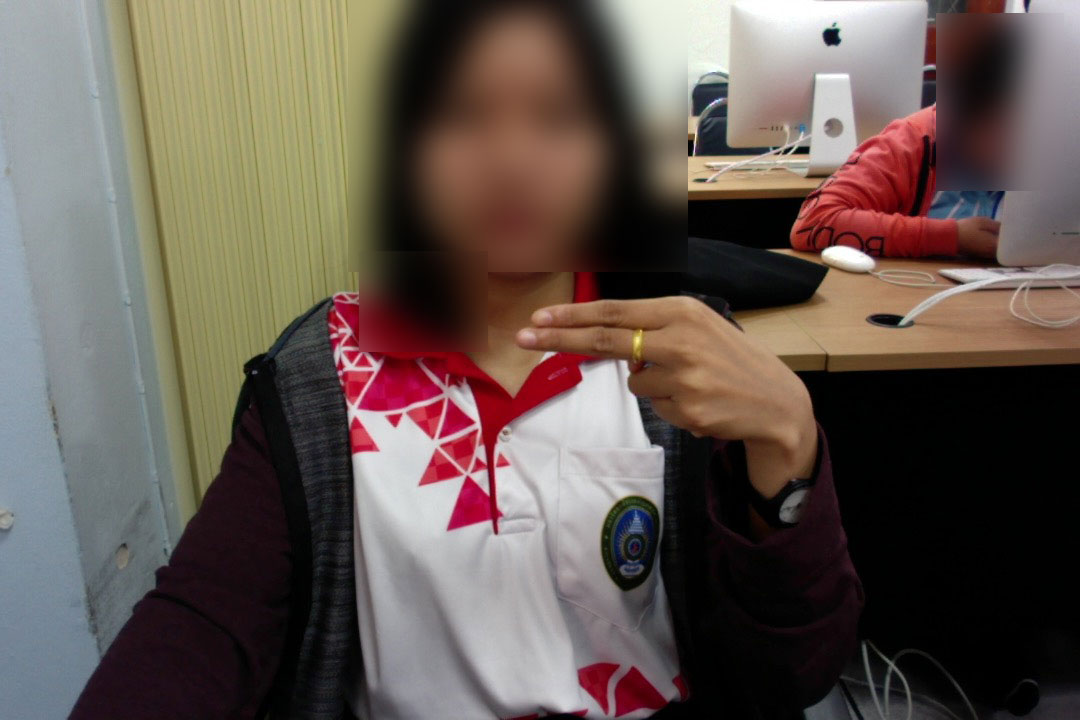hor: (511, 293, 814, 453)
